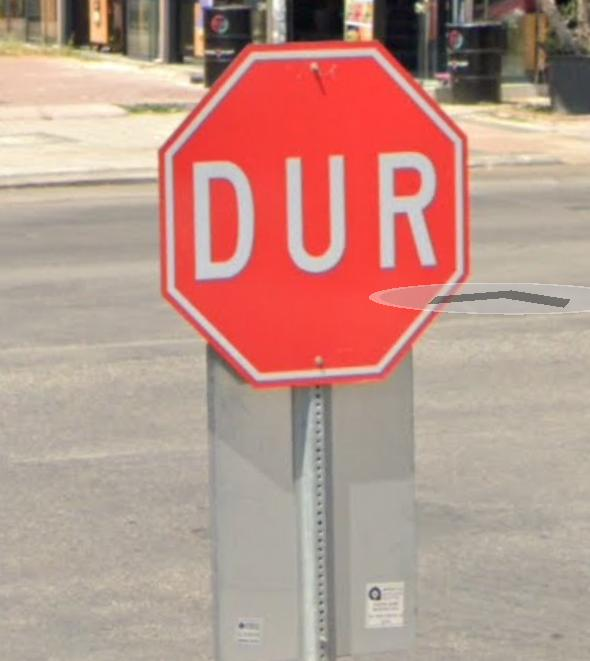stop: (161, 45, 467, 381)
